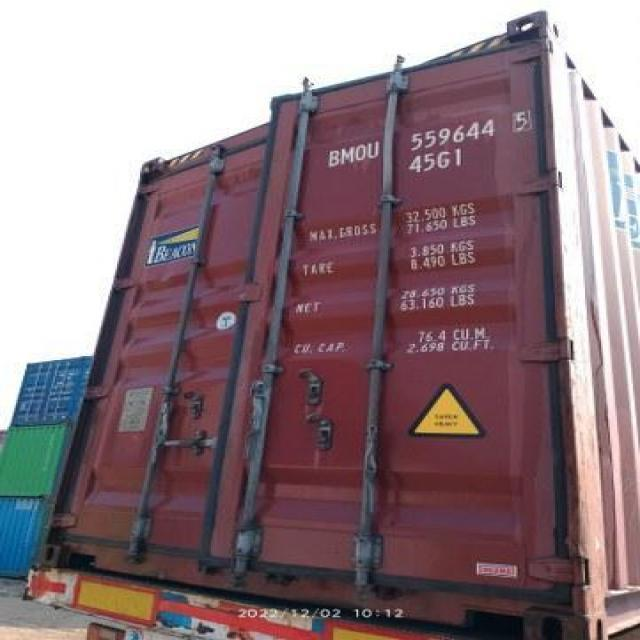container_number_h: (283, 103, 570, 194)
